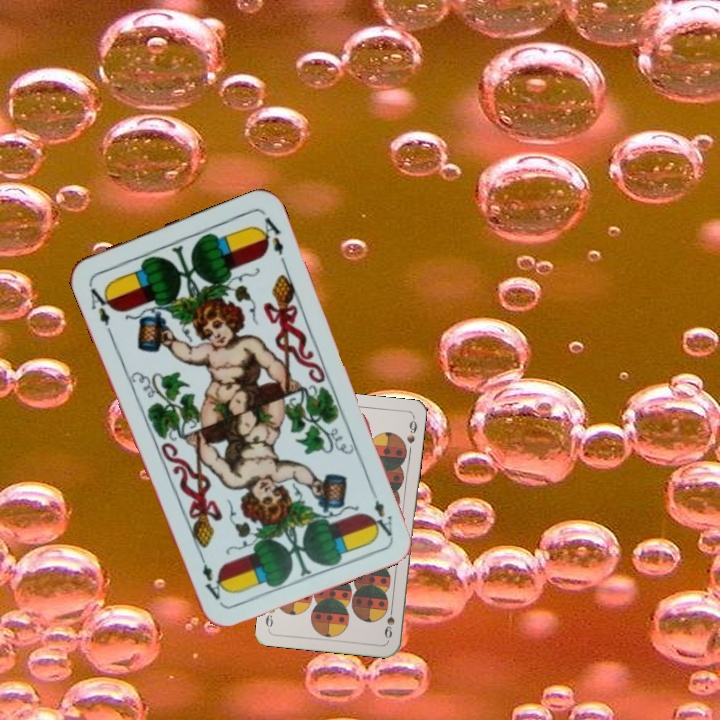EA: (365, 482, 395, 539), (84, 279, 116, 329)
S9: (381, 602, 397, 641)
